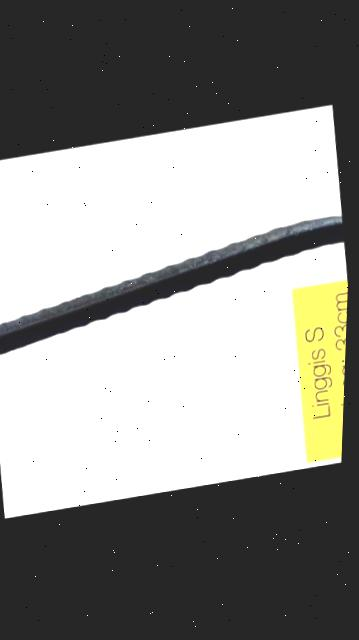crow bar: (0, 210, 346, 357)
